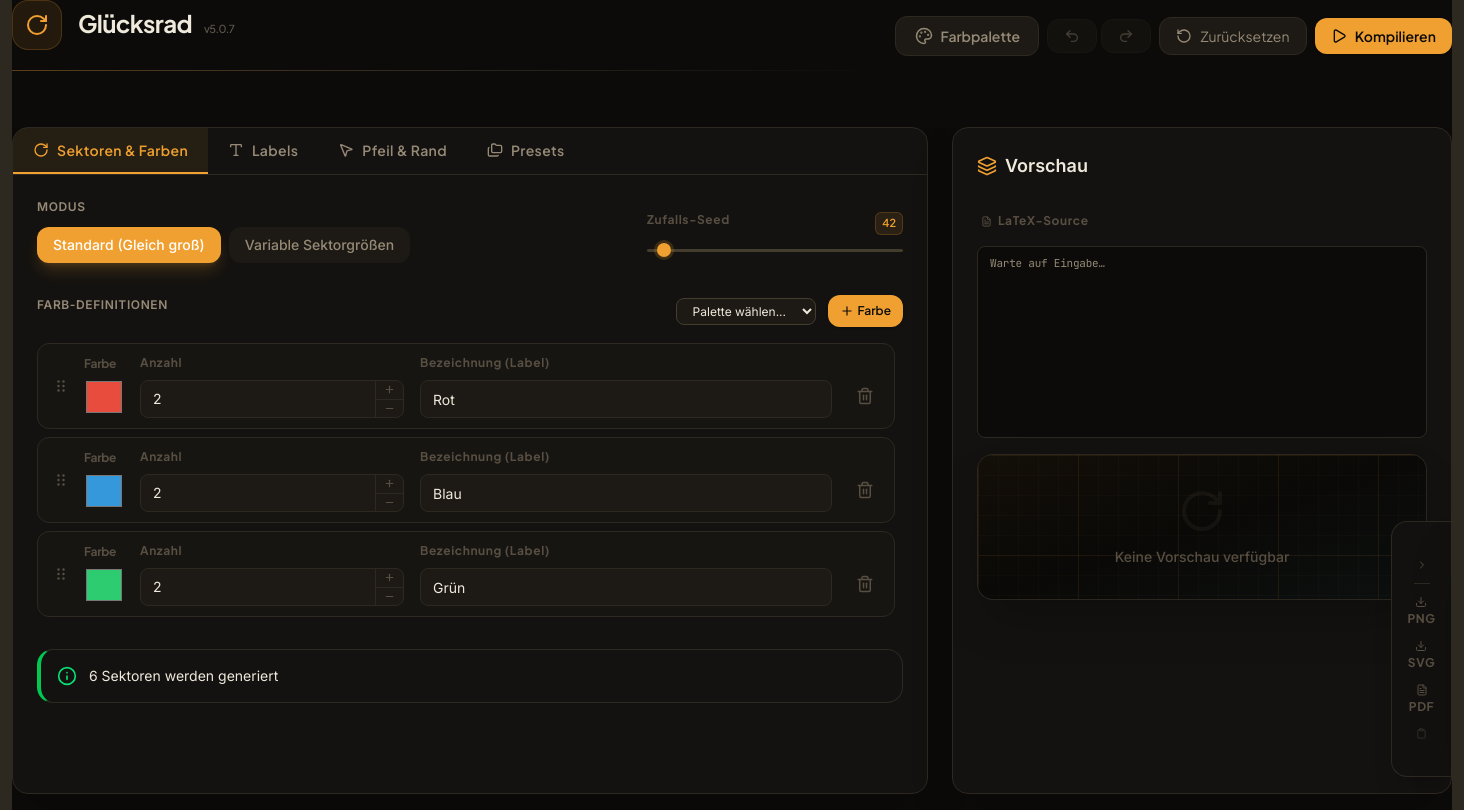
Test: GluckPage NaN-Guard (P8C-34) › verhindert Endlos-Render-Schleife beim Leeren eines Häufigkeitsfeldes (NaN)
This screenshot has width=1464, height=810.
Expected: the text "6 Sektoren werden generiert" is shown, [89,666,278,686]
Clear the 1st field: (258, 399) [141,381,375,417]
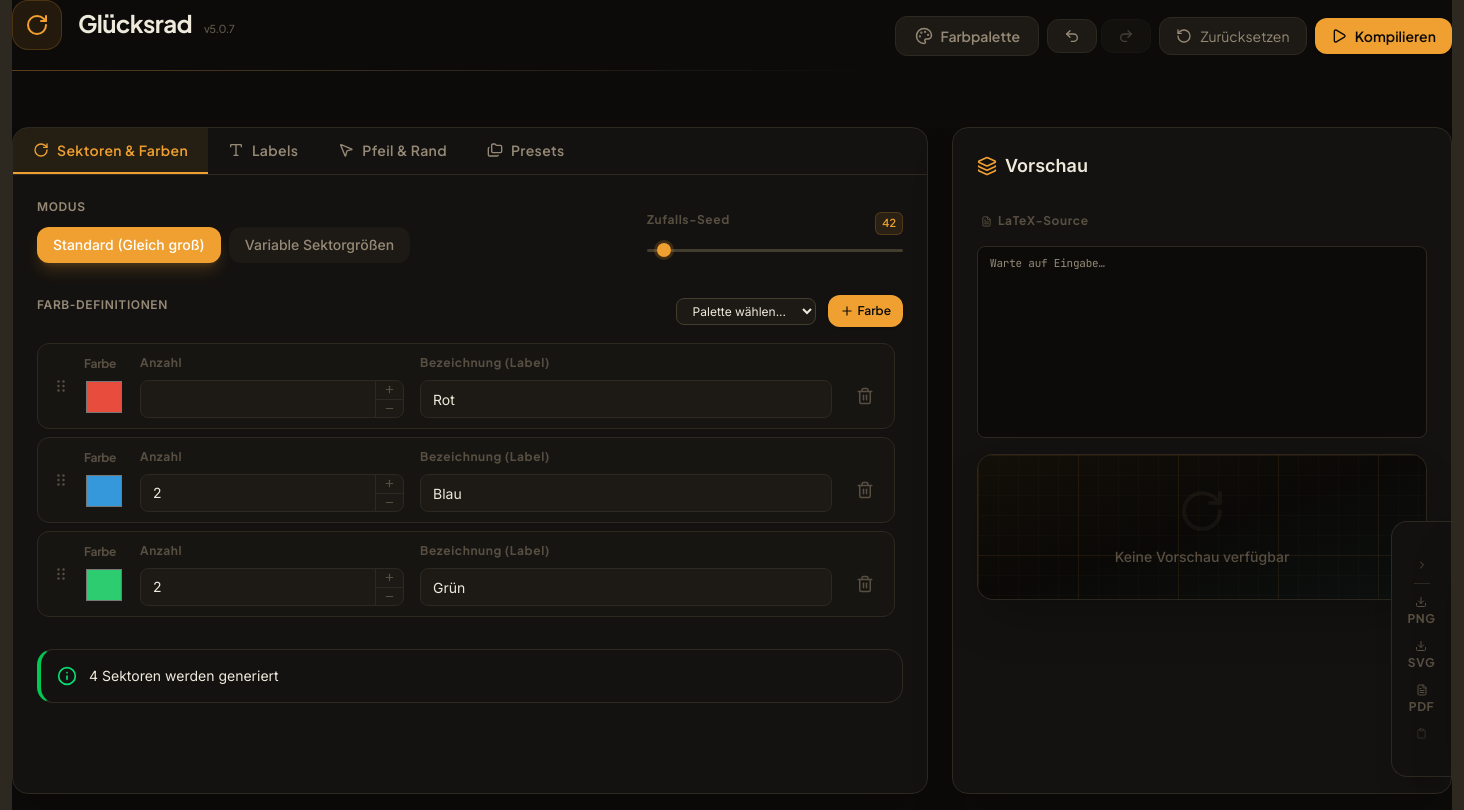
Expected: the text "4 Sektoren werden generiert" is shown, [89,666,279,686]
Clear the 3rd field: (258, 493) [141,475,375,511]
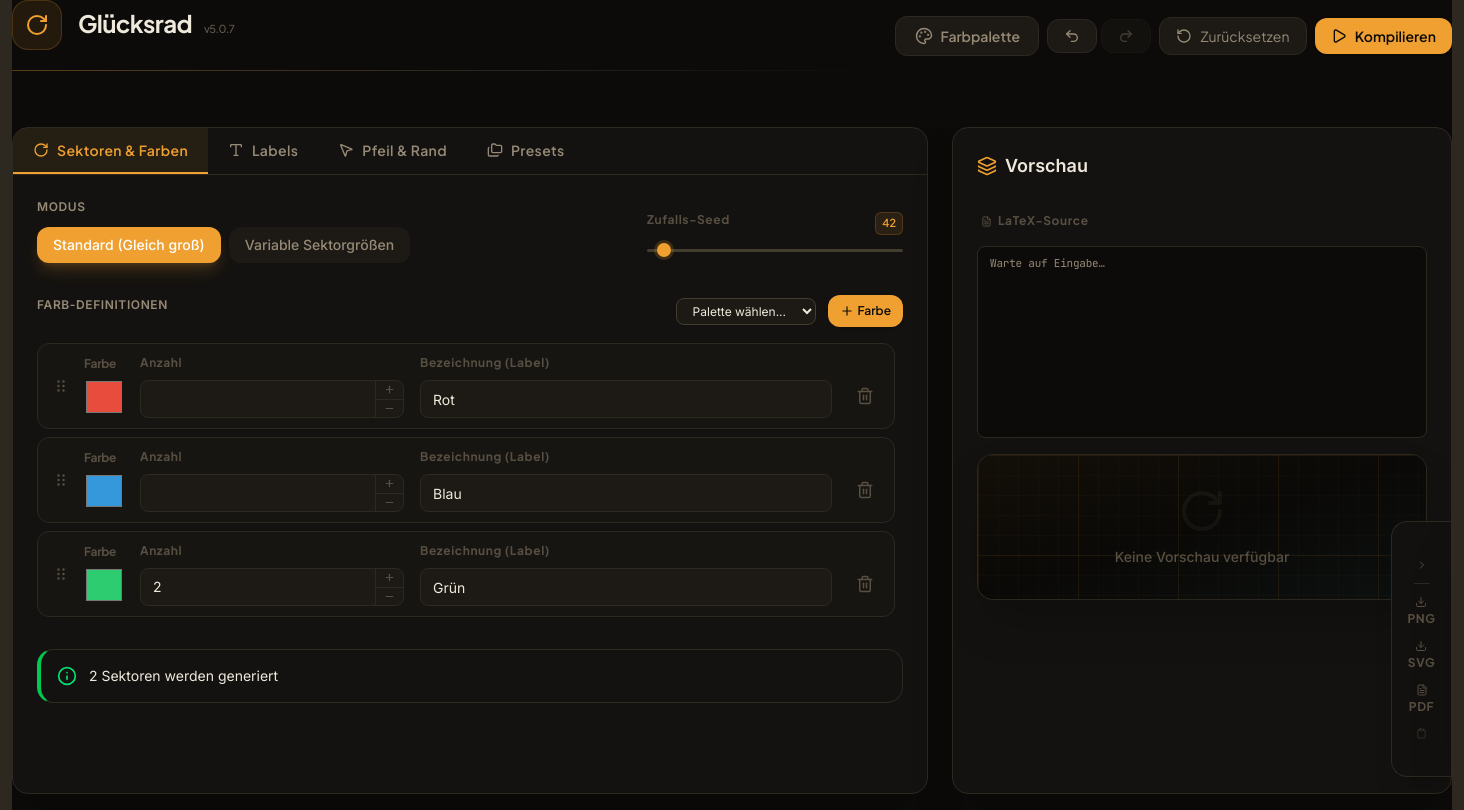
Clear the 5th field: (258, 587) [141,569,375,605]
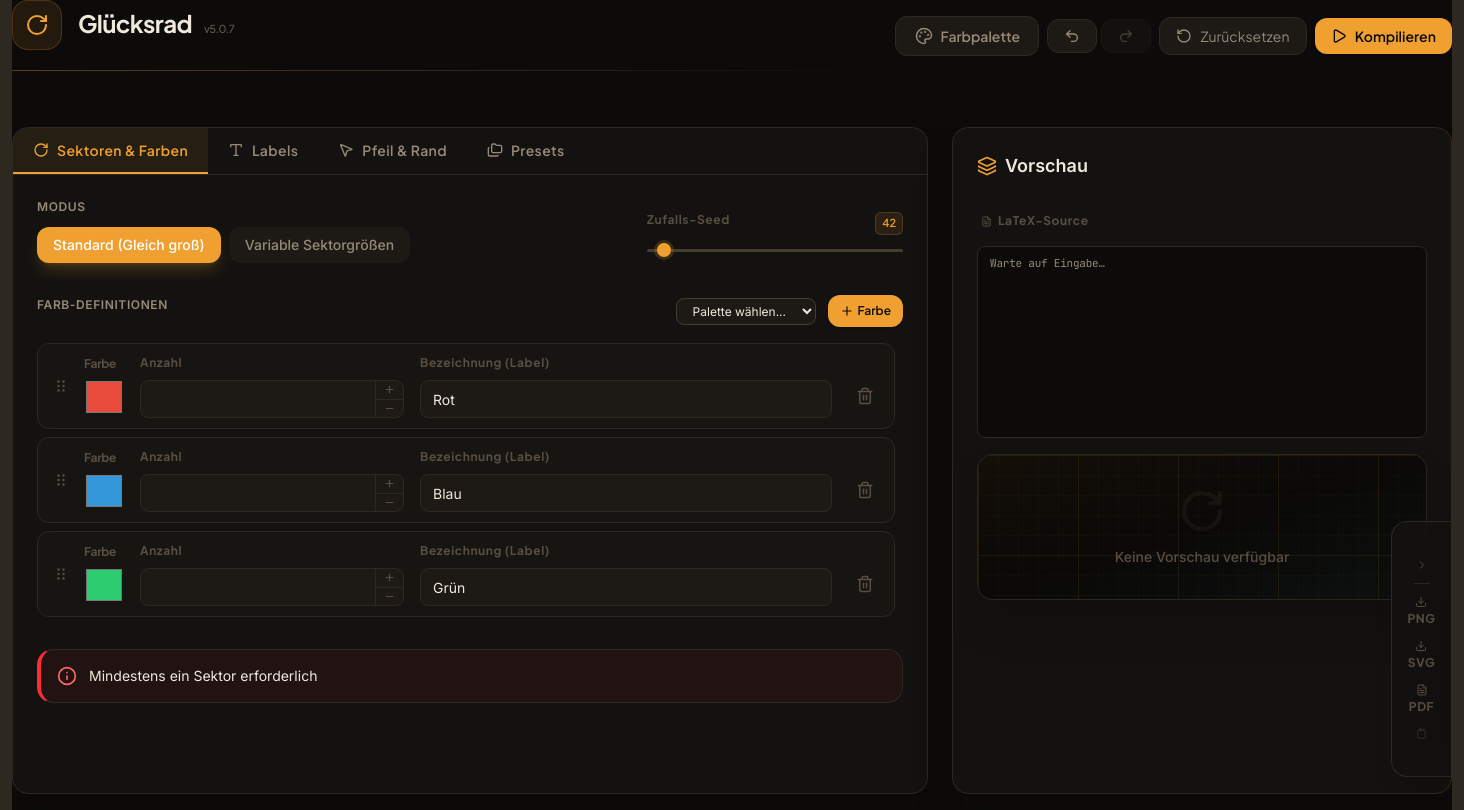
Expected: the text "Mindestens ein Sektor erforderlich" is shown, [89,666,317,686]
